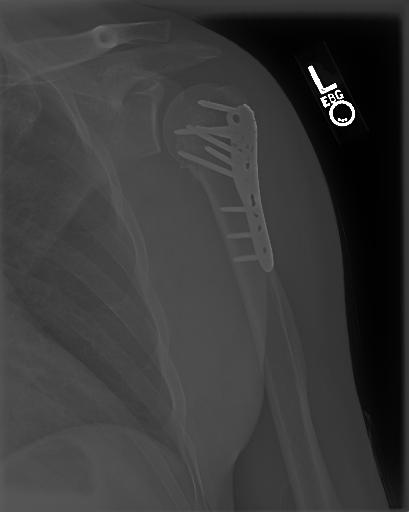shoulder fracture: (159, 79, 261, 202)
